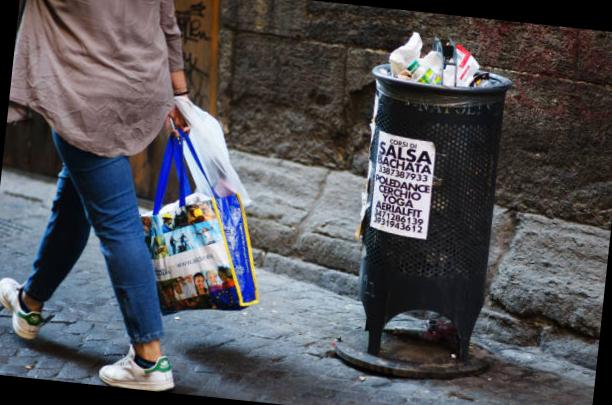trash: (384, 29, 505, 100)
trash_can_overflow: (324, 14, 528, 397)
